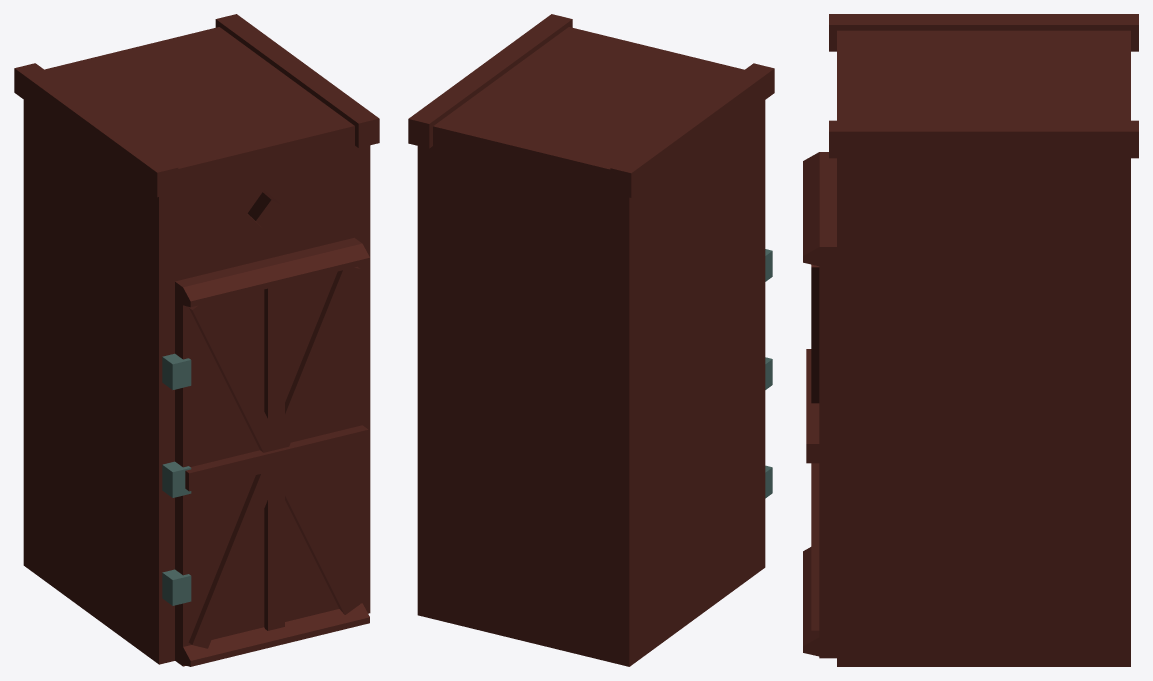
File: store_1.FBX
The picture shows the model from 3 angles, left to right: view 1: azimuth 30°, elevation 25°; view 2: azimuth 150°, elevation 25°; view 3: azimuth 270°, elevation 25°; orthographic projection. The views are drawn at different scales.
Visible parts, largest first — view 1: store_1; view 2: store_1; view 3: store_1.
Part boxes in pixels (<box>): store_1: <box>14,14,379,666</box>; store_1: <box>408,14,774,666</box>; store_1: <box>803,14,1138,666</box>.
Size of the model in its own units: 1.43 by 3.04 by 1.72.
1 material, 1 textured.
